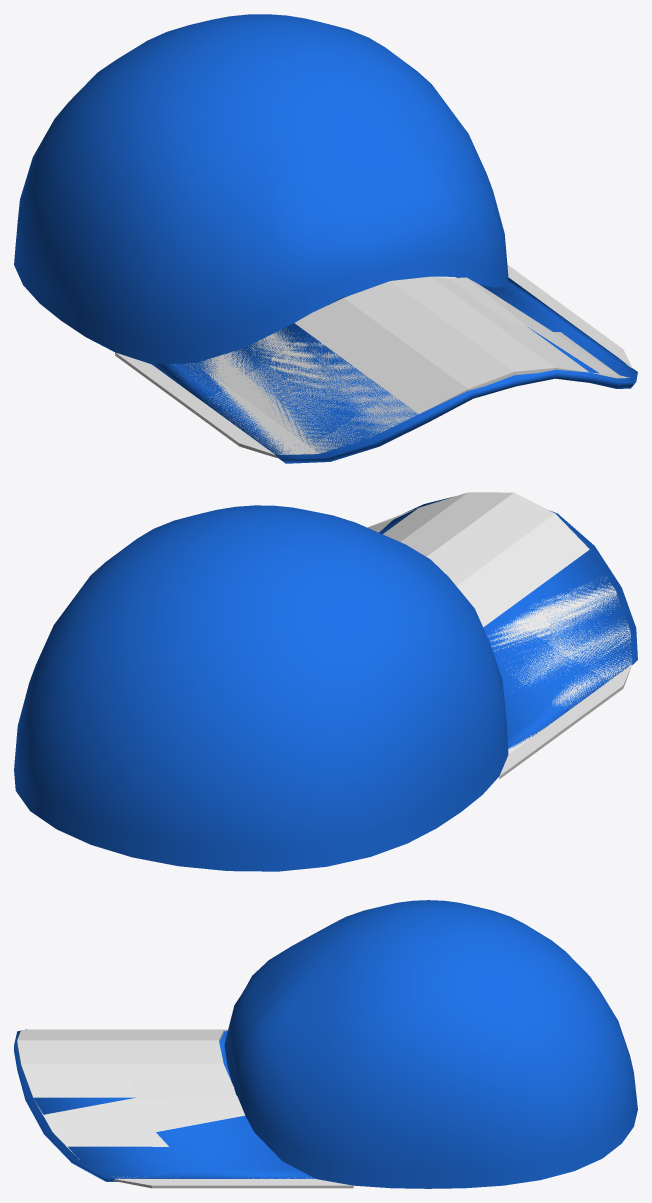
File: NormalHat.fbx
3 views of the same model, one above another, from view 1: azimuth 30°, elevation 25°; view 2: azimuth 150°, elevation 25°; view 3: azimuth 270°, elevation 25° (orthographic). The views are drawn at different scales.
Visible parts, largest first — view 1: BOB.001, BILL1; view 2: BOB.001, BILL1; view 3: BOB.001, BILL1.
Boxes of the visible parts, x1,y1,x2,y2 form: BOB.001: (14, 14, 637, 463); BILL1: (115, 264, 632, 457); BOB.001: (14, 496, 637, 871); BILL1: (367, 492, 632, 779); BOB.001: (14, 900, 637, 1188); BILL1: (17, 1029, 353, 1188).
Size of the model in its own units: 179 by 102 by 298.
